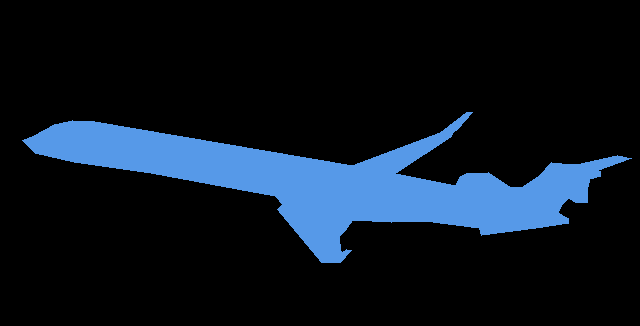Airplane: (22, 112, 631, 263)
